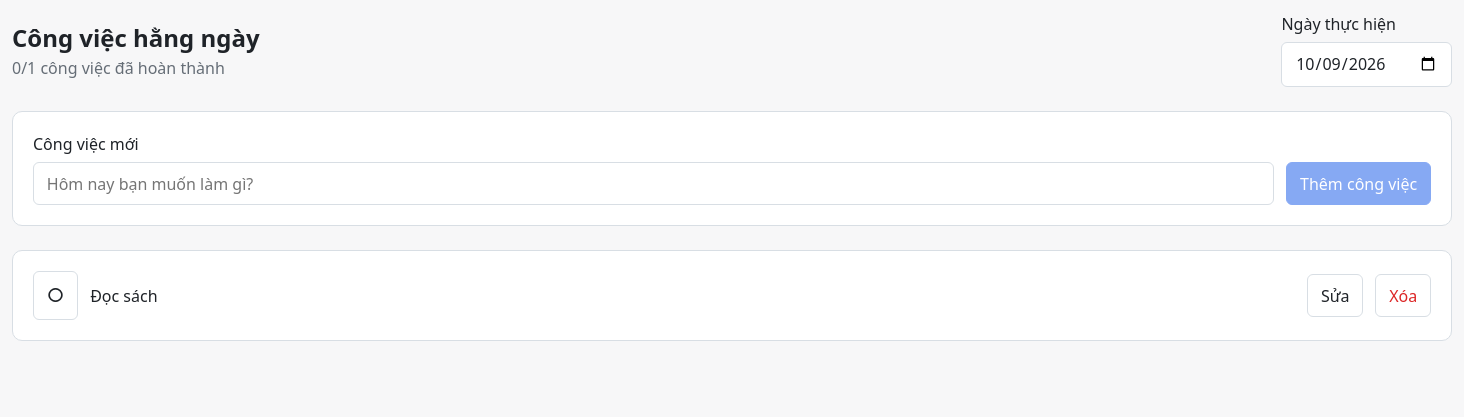
daily tasks › keeps entered text when saving fails
Type "Giữ nội dung" into the field with id "new-task".
click(654, 184); type("Giữ nội dung")  # box [33, 162, 1274, 205]
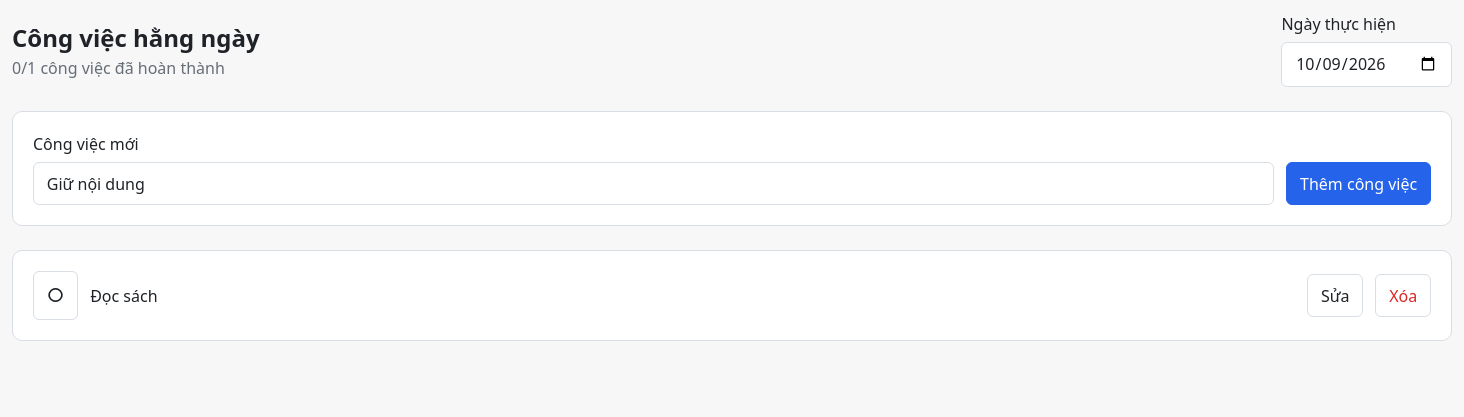
Submit the form, box [12, 111, 1452, 226]
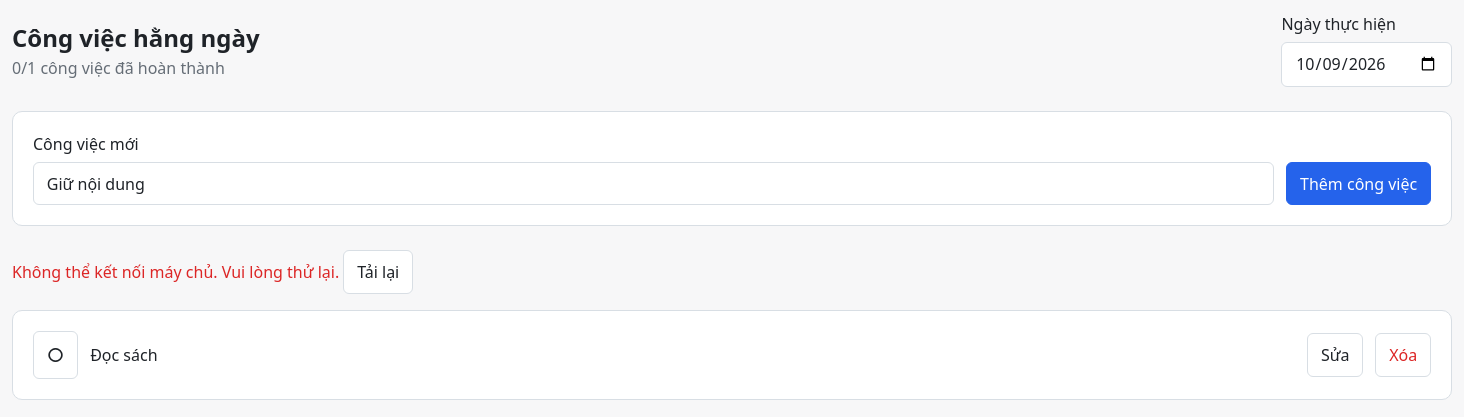
Expected: the message "Không thể kết nối máy chủ. Vui lòng thử lại. Tải lại" is shown, [12, 250, 413, 294]
